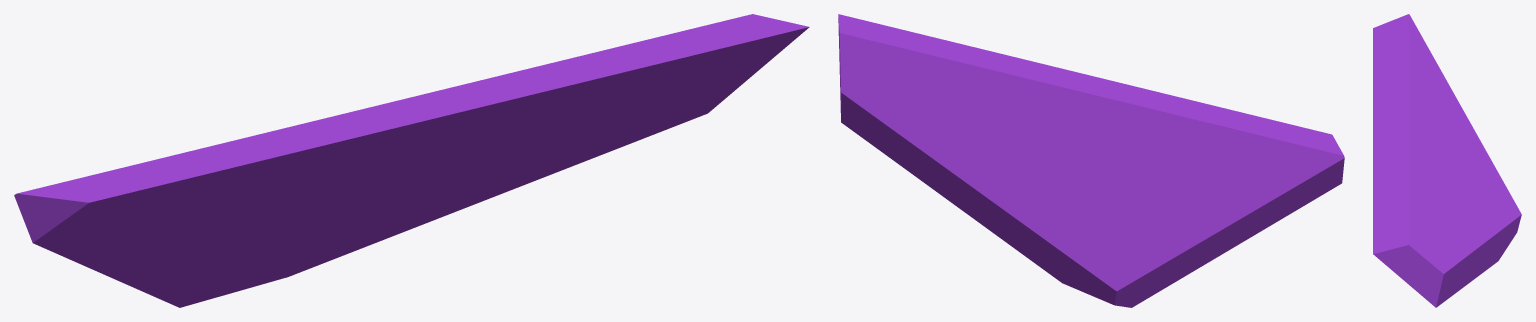
Rendered from Window_123_3_chunks.fbx.
The picture shows the model from 3 angles, left to right: view 1: azimuth 30°, elevation 25°; view 2: azimuth 150°, elevation 25°; view 3: azimuth 270°, elevation 25°; orthographic projection. The views are drawn at different scales.
Visible parts, largest first — view 1: Window_123_3_0, Window_123_3_8, Window_123_3_17, Window_123_3_1, Window_123_3_2, Window_123_3_19, Window_123_3_5, Window_123_3_14, Window_123_3_23, Window_123_3_7, Window_123_3_4, Window_123_3_15 (+4 smaller); view 2: Window_123_3_1, Window_123_3_9, Window_123_3_2, Window_123_3_0, Window_123_3_6, Window_123_3_10, Window_123_3_3, Window_123_3_16, Window_123_3_12, Window_123_3_8, Window_123_3_11, Window_123_3_15 (+7 smaller); view 3: Window_123_3_8, Window_123_3_9, Window_123_3_0, Window_123_3_2, Window_123_3_1, Window_123_3_17, Window_123_3_6, Window_123_3_10, Window_123_3_19, Window_123_3_3, Window_123_3_16, Window_123_3_12 (+6 smaller).
Boxes of the visible parts, x1,y1,x2,y2 form: Window_123_3_0: (14,144,277,261); Window_123_3_8: (582,14,809,144); Window_123_3_17: (318,90,523,160); Window_123_3_1: (76,217,264,305); Window_123_3_2: (214,120,327,245); Window_123_3_19: (503,45,675,129); Window_123_3_5: (176,196,363,307); Window_123_3_14: (411,139,640,211); Window_123_3_23: (321,152,470,204); Window_123_3_7: (483,102,607,148); Window_123_3_4: (264,207,467,283); Window_123_3_15: (359,176,444,227); Window_123_3_1: (1104,177,1280,303); Window_123_3_9: (972,72,1137,183); Window_123_3_2: (1092,96,1202,226); Window_123_3_0: (1200,103,1344,219); Window_123_3_6: (1026,191,1134,307); Window_123_3_10: (841,82,983,156); Window_123_3_3: (1178,118,1282,203); Window_123_3_16: (845,119,1013,186); Window_123_3_12: (841,67,999,114); Window_123_3_8: (838,14,929,125); Window_123_3_11: (840,47,980,85); Window_123_3_15: (1003,164,1079,223); Window_123_3_8: (1373,205,1445,307); Window_123_3_9: (1405,109,1461,223); Window_123_3_0: (1373,14,1439,87); Window_123_3_2: (1373,81,1484,188); Window_123_3_1: (1445,84,1519,210); Window_123_3_17: (1373,100,1406,160); Window_123_3_6: (1469,182,1521,254); Window_123_3_10: (1434,210,1461,285); Window_123_3_19: (1373,169,1411,212); Window_123_3_3: (1403,65,1448,120); Window_123_3_16: (1437,210,1479,306); Window_123_3_12: (1408,171,1438,268).
Bounding box in the file's own units: 1410 × 396 × 368.
